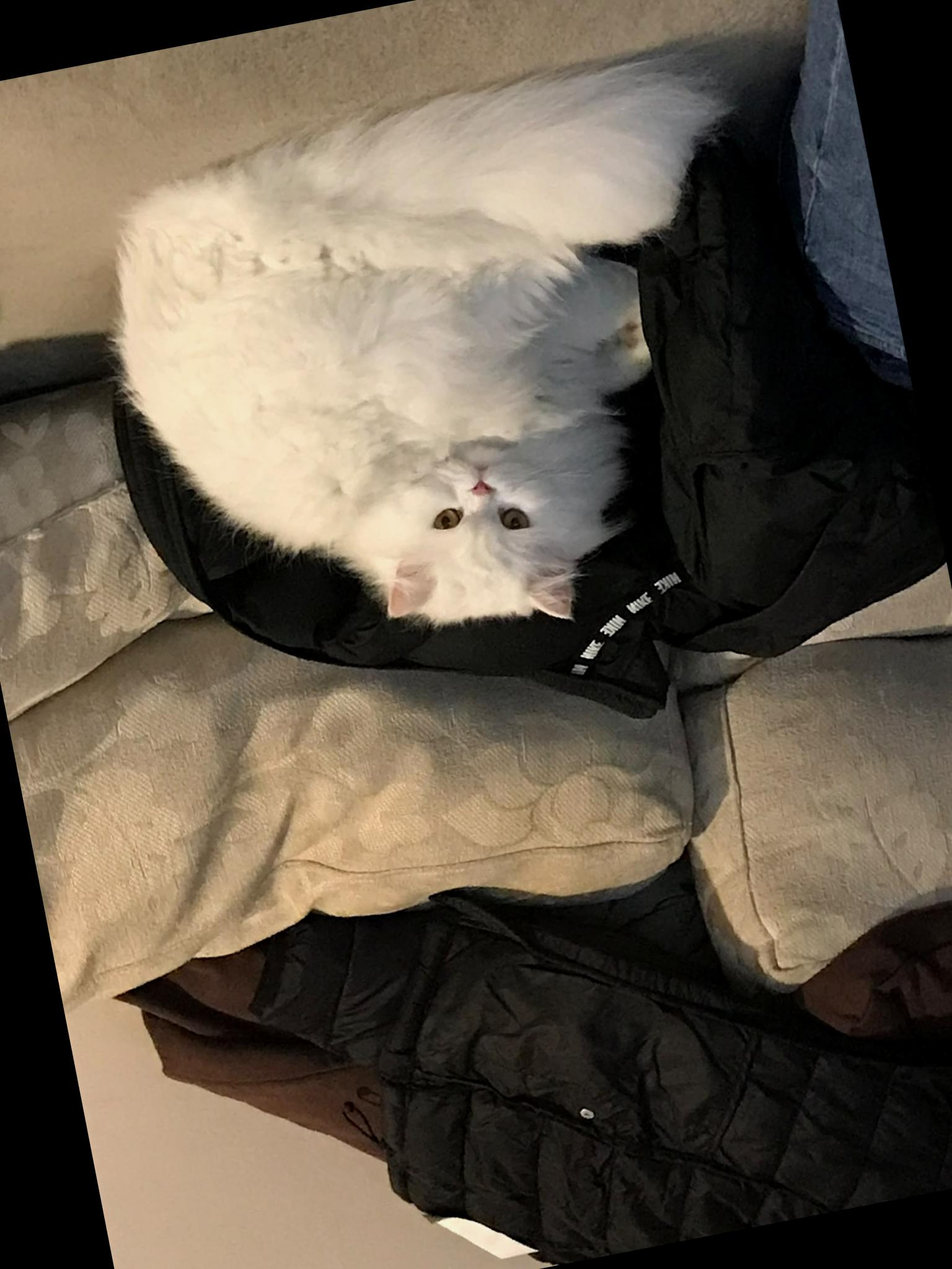macka: (74, 42, 826, 701)
